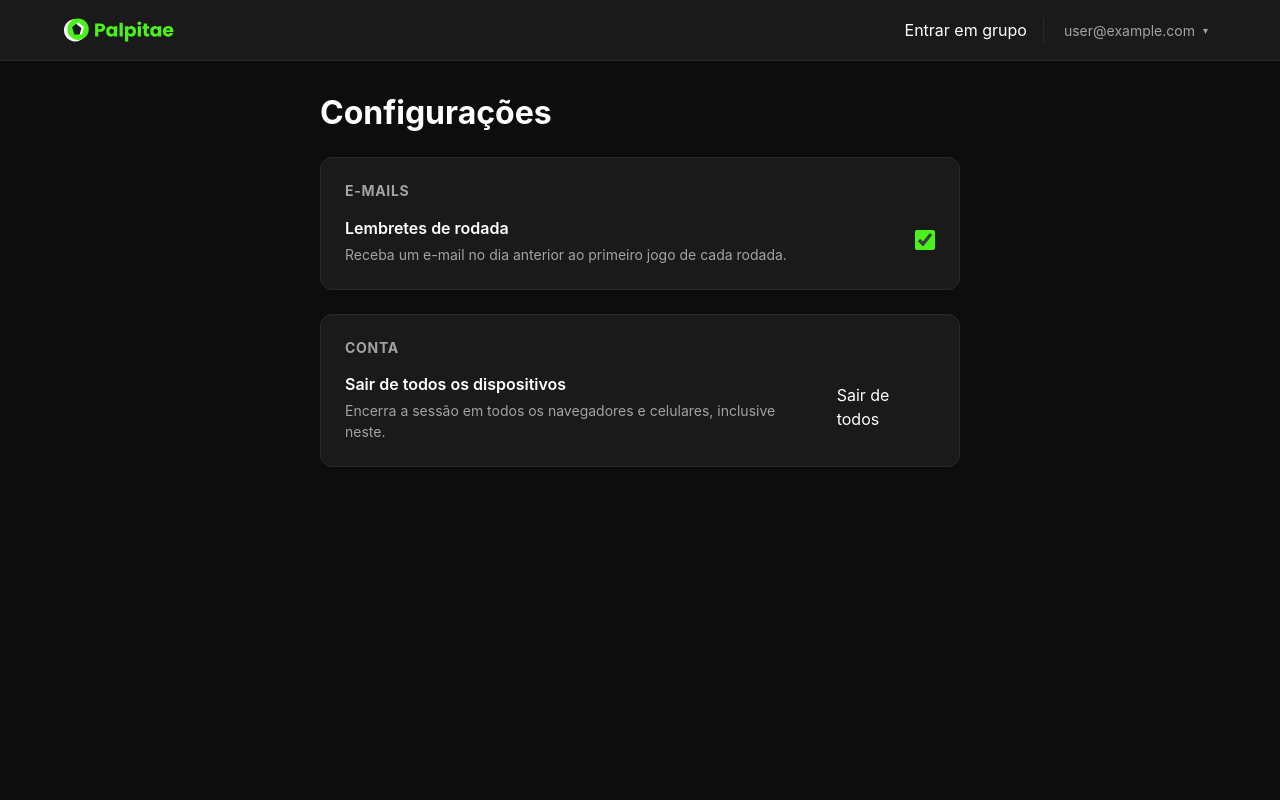
Test: SettingsPage › opens a confirmation modal when the toggle is clicked and tracks the intent
This screenshot has width=1280, height=800.
Click the checkbox.
click(925, 240)  # box [915,230,935,250]
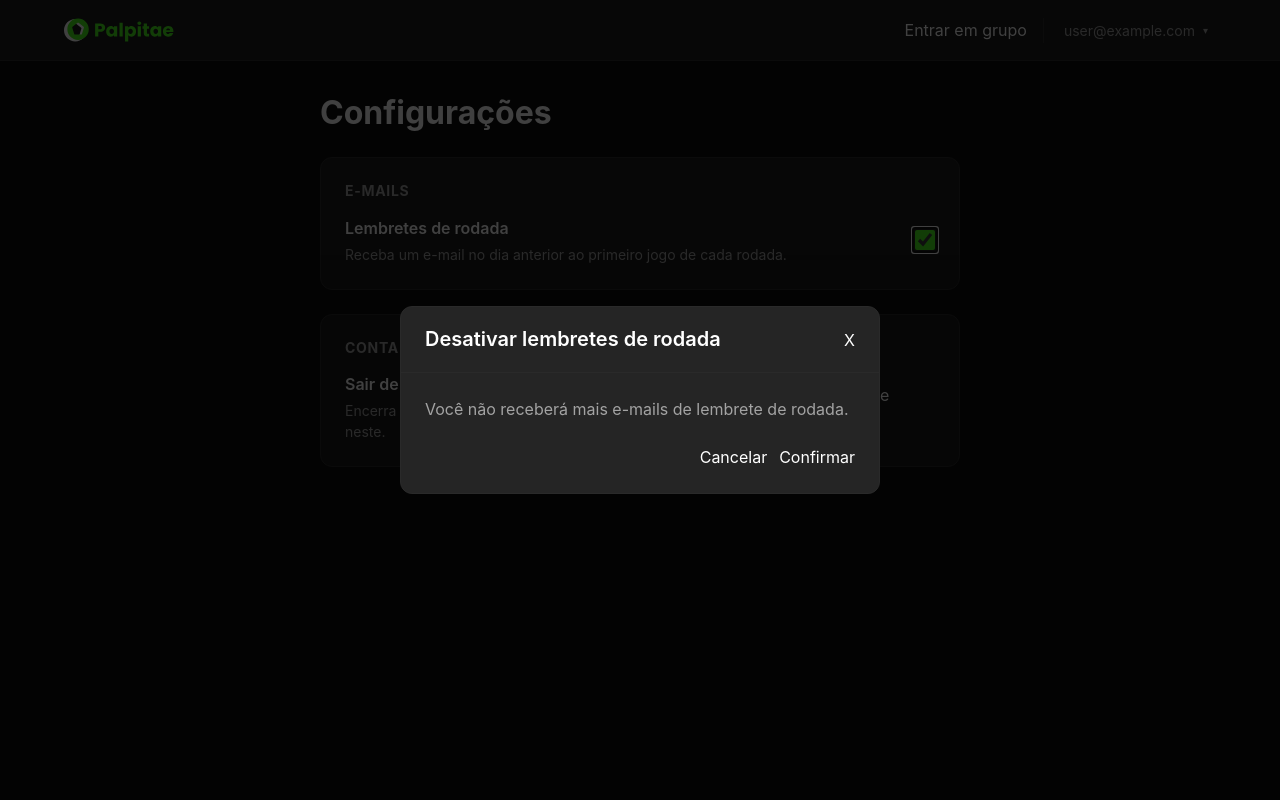
expect the dialog is shown: met
expect the heading "Desativar lembretes de rodada" is shown: met, box [425,327,721,352]
